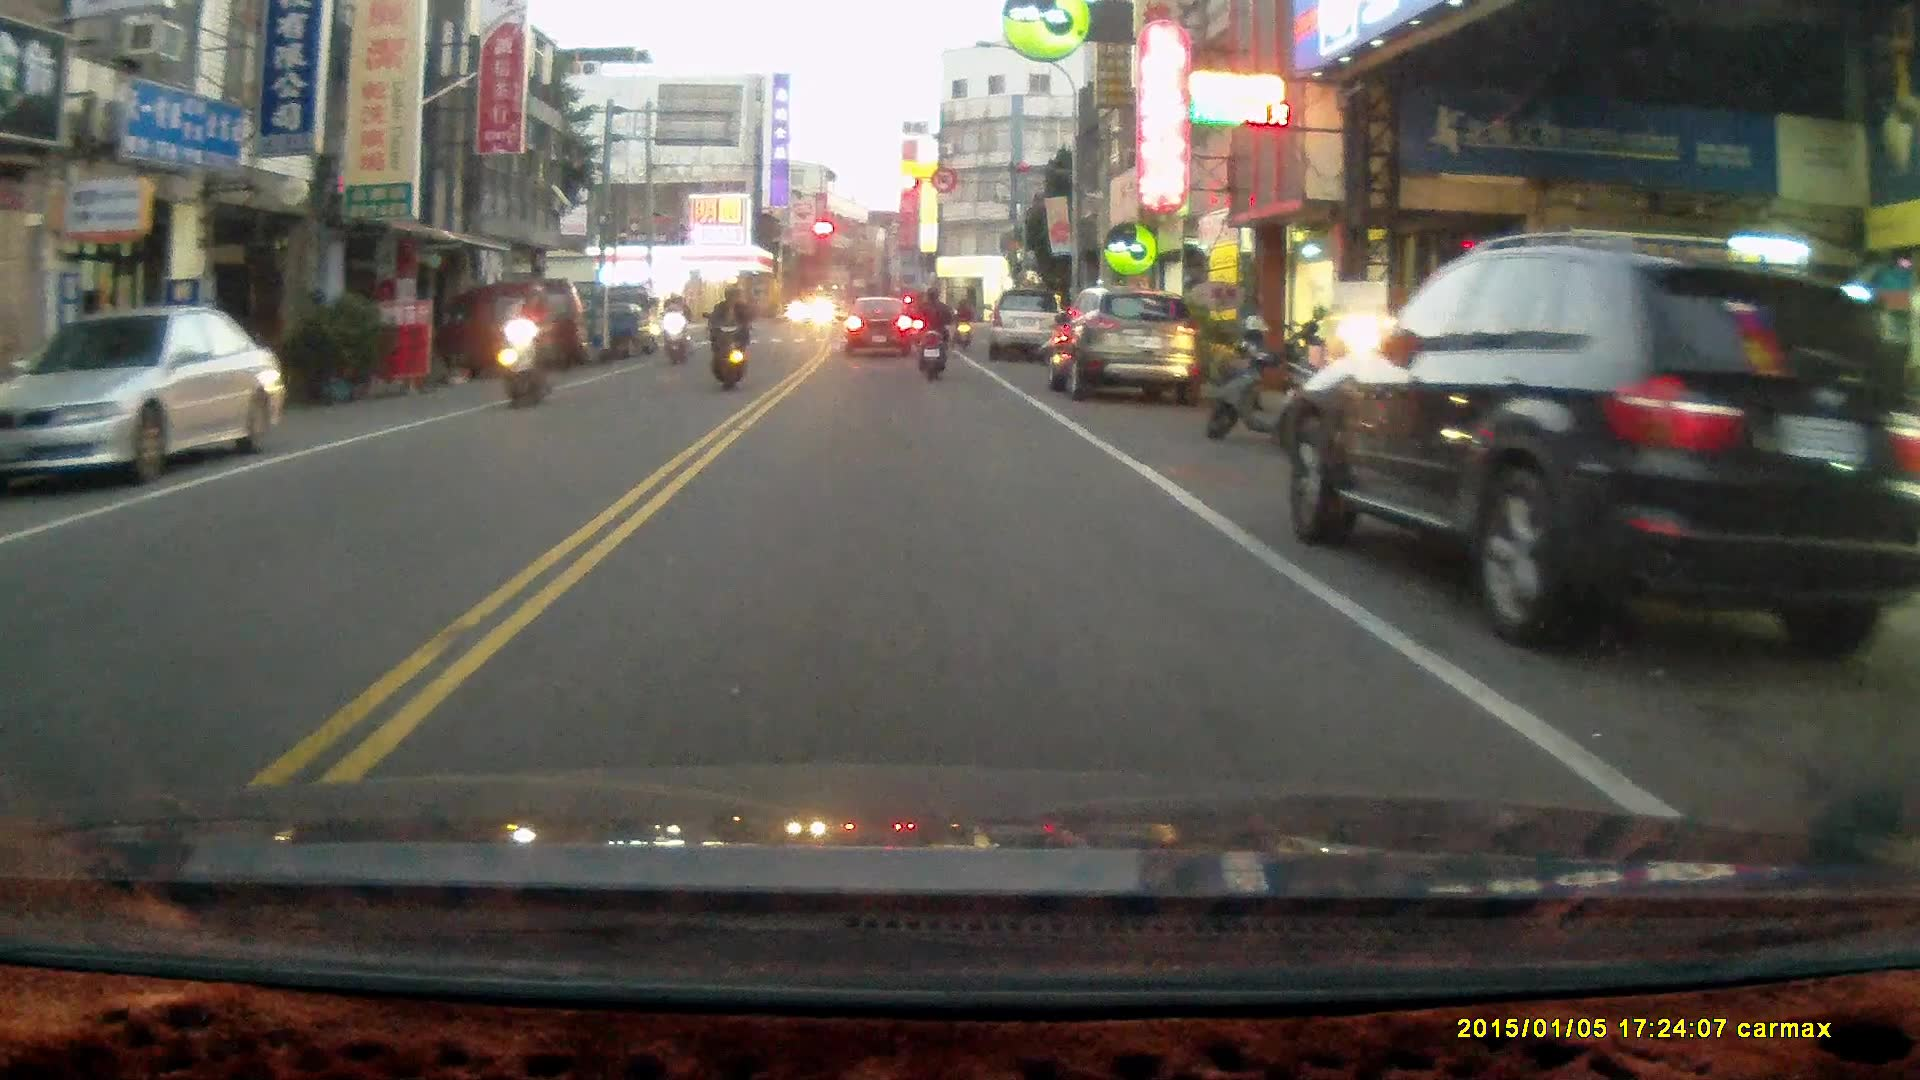rider: (501, 281, 554, 410), (705, 283, 747, 394), (909, 281, 950, 382), (660, 291, 691, 367), (952, 295, 973, 349)
vehicle: (1285, 230, 1920, 666), (1, 305, 290, 491), (1046, 285, 1198, 401), (429, 280, 594, 381), (992, 287, 1071, 363)
